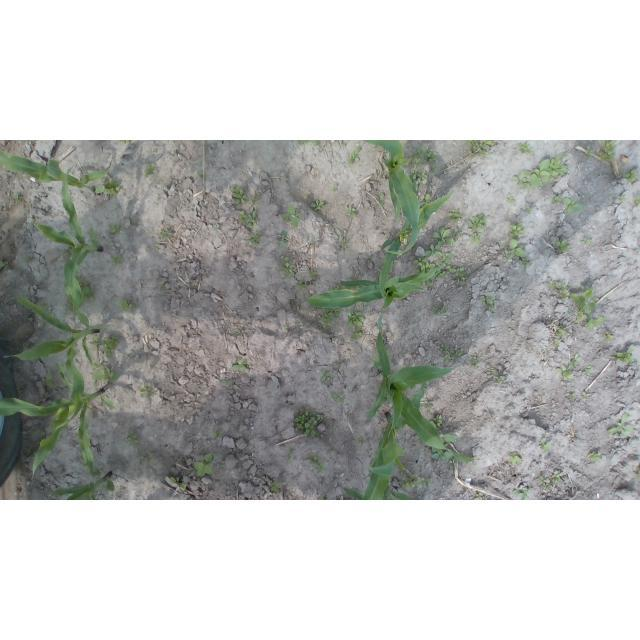Maize: (367, 312, 485, 462), (1, 363, 116, 482), (3, 295, 101, 429), (36, 165, 105, 330), (306, 243, 454, 310), (379, 190, 455, 298), (363, 380, 426, 501), (362, 141, 421, 256), (0, 151, 112, 198), (51, 470, 115, 500), (343, 486, 413, 500)
Weeds: (513, 152, 569, 190), (570, 286, 607, 331), (414, 258, 444, 286), (294, 412, 326, 437), (606, 412, 634, 438), (446, 263, 469, 286), (538, 471, 567, 489), (411, 147, 437, 166), (467, 141, 493, 160), (504, 240, 527, 261), (402, 474, 432, 490), (194, 453, 214, 477), (432, 227, 455, 246), (547, 281, 569, 300), (440, 345, 464, 362), (92, 367, 119, 382), (321, 308, 341, 328), (598, 140, 616, 162), (283, 205, 301, 227), (612, 347, 634, 364), (411, 171, 429, 191), (239, 210, 259, 228), (563, 197, 584, 214), (102, 179, 120, 198), (279, 257, 296, 277), (467, 215, 489, 230), (104, 335, 119, 357), (340, 227, 353, 252), (229, 187, 247, 205), (431, 447, 453, 461), (347, 310, 365, 327), (308, 455, 325, 473), (555, 365, 575, 380), (80, 282, 94, 303), (509, 222, 525, 238), (487, 368, 504, 383), (539, 437, 554, 453), (170, 476, 186, 491), (348, 146, 361, 164), (440, 432, 459, 444), (512, 488, 531, 500), (145, 163, 160, 178), (518, 142, 534, 156), (138, 384, 155, 397), (429, 303, 447, 315), (556, 239, 571, 253), (43, 373, 58, 387), (622, 170, 638, 183), (482, 295, 495, 311), (246, 232, 262, 245), (350, 328, 367, 340), (425, 244, 442, 256), (232, 359, 249, 371), (587, 450, 602, 463), (64, 299, 75, 316), (447, 209, 461, 222), (571, 353, 582, 369), (121, 301, 137, 312), (126, 433, 139, 446), (471, 353, 482, 368), (508, 453, 521, 465), (320, 369, 332, 382), (280, 230, 289, 247), (140, 452, 155, 462), (346, 205, 357, 218), (420, 194, 431, 207), (584, 145, 595, 158), (520, 260, 533, 271), (310, 200, 324, 210), (332, 392, 346, 402), (250, 191, 260, 205), (505, 192, 516, 204), (469, 233, 481, 244), (158, 229, 170, 240), (300, 141, 318, 148), (109, 256, 123, 265), (582, 364, 592, 376), (110, 226, 123, 235), (603, 331, 613, 342), (270, 482, 281, 492), (434, 415, 443, 427), (91, 338, 99, 351), (310, 270, 319, 281), (552, 194, 561, 205), (213, 429, 224, 438), (91, 468, 102, 477), (13, 193, 24, 202), (444, 253, 453, 263), (555, 327, 564, 337), (197, 170, 206, 180), (379, 194, 386, 206), (580, 238, 592, 245), (297, 281, 307, 289), (423, 401, 433, 409), (455, 228, 463, 238), (64, 248, 72, 258), (568, 393, 576, 402), (285, 452, 293, 461), (220, 379, 232, 385), (449, 460, 456, 470), (633, 197, 640, 207), (131, 217, 138, 227), (581, 392, 592, 398), (474, 493, 483, 500), (619, 195, 628, 202), (358, 439, 367, 446), (25, 256, 34, 263), (331, 184, 338, 192), (525, 208, 533, 215), (636, 468, 640, 482), (41, 301, 48, 309), (333, 286, 344, 291), (117, 140, 130, 144), (382, 149, 388, 157), (553, 338, 559, 346), (283, 323, 290, 329), (235, 329, 241, 336), (160, 285, 167, 291), (214, 224, 221, 230), (623, 463, 629, 469), (432, 166, 437, 172), (333, 363, 338, 368), (154, 244, 158, 250), (318, 497, 325, 500), (637, 291, 640, 297)
